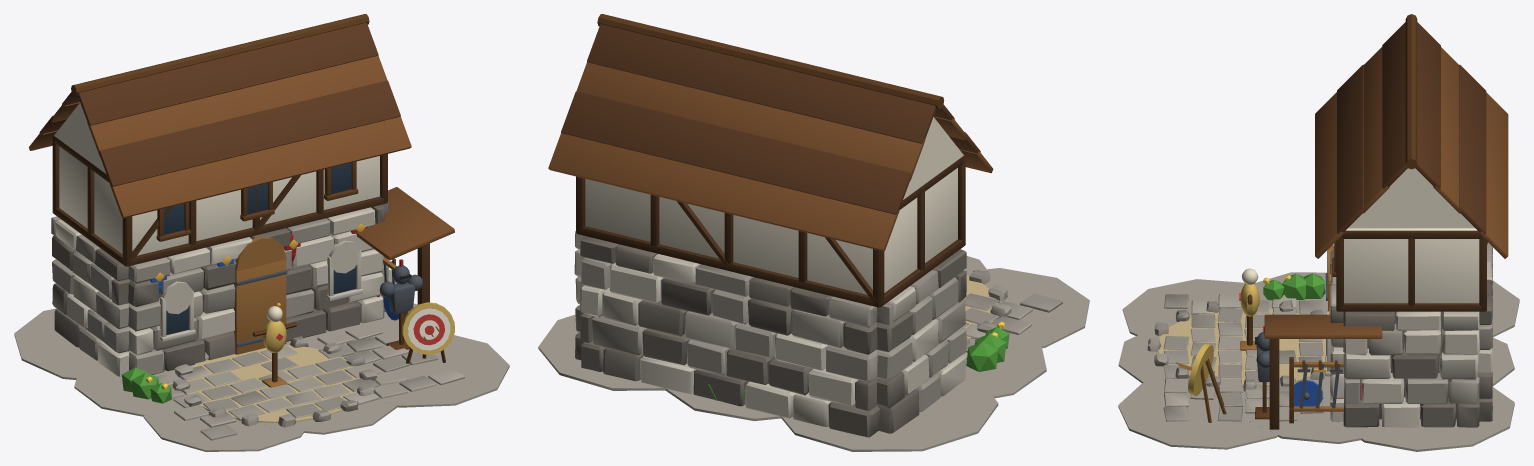
File: koszary_poz14.glb
3 views of the same model, side by side, from view 1: azimuth 30°, elevation 25°; view 2: azimuth 150°, elevation 25°; view 3: azimuth 270°, elevation 25° (orthographic). The views are drawn at different scales.
Parts seen in each view (by area): view 1: koszary_poz14; view 2: koszary_poz14; view 3: koszary_poz14.
Part boxes in pixels (left/top/right/bottom): koszary_poz14: left=14, top=14, right=509, bottom=451; koszary_poz14: left=538, top=14, right=1089, bottom=451; koszary_poz14: left=1118, top=14, right=1519, bottom=451.
Size of the model in its own units: 8.83 by 6.35 by 8.2.
